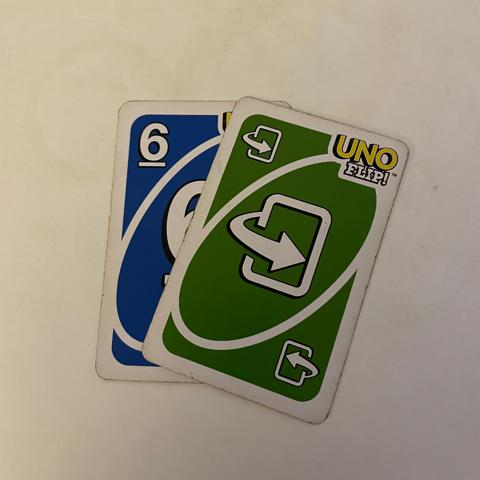lblue-6: (124, 109, 177, 171)
lgreenflip-20: (240, 118, 283, 178)
